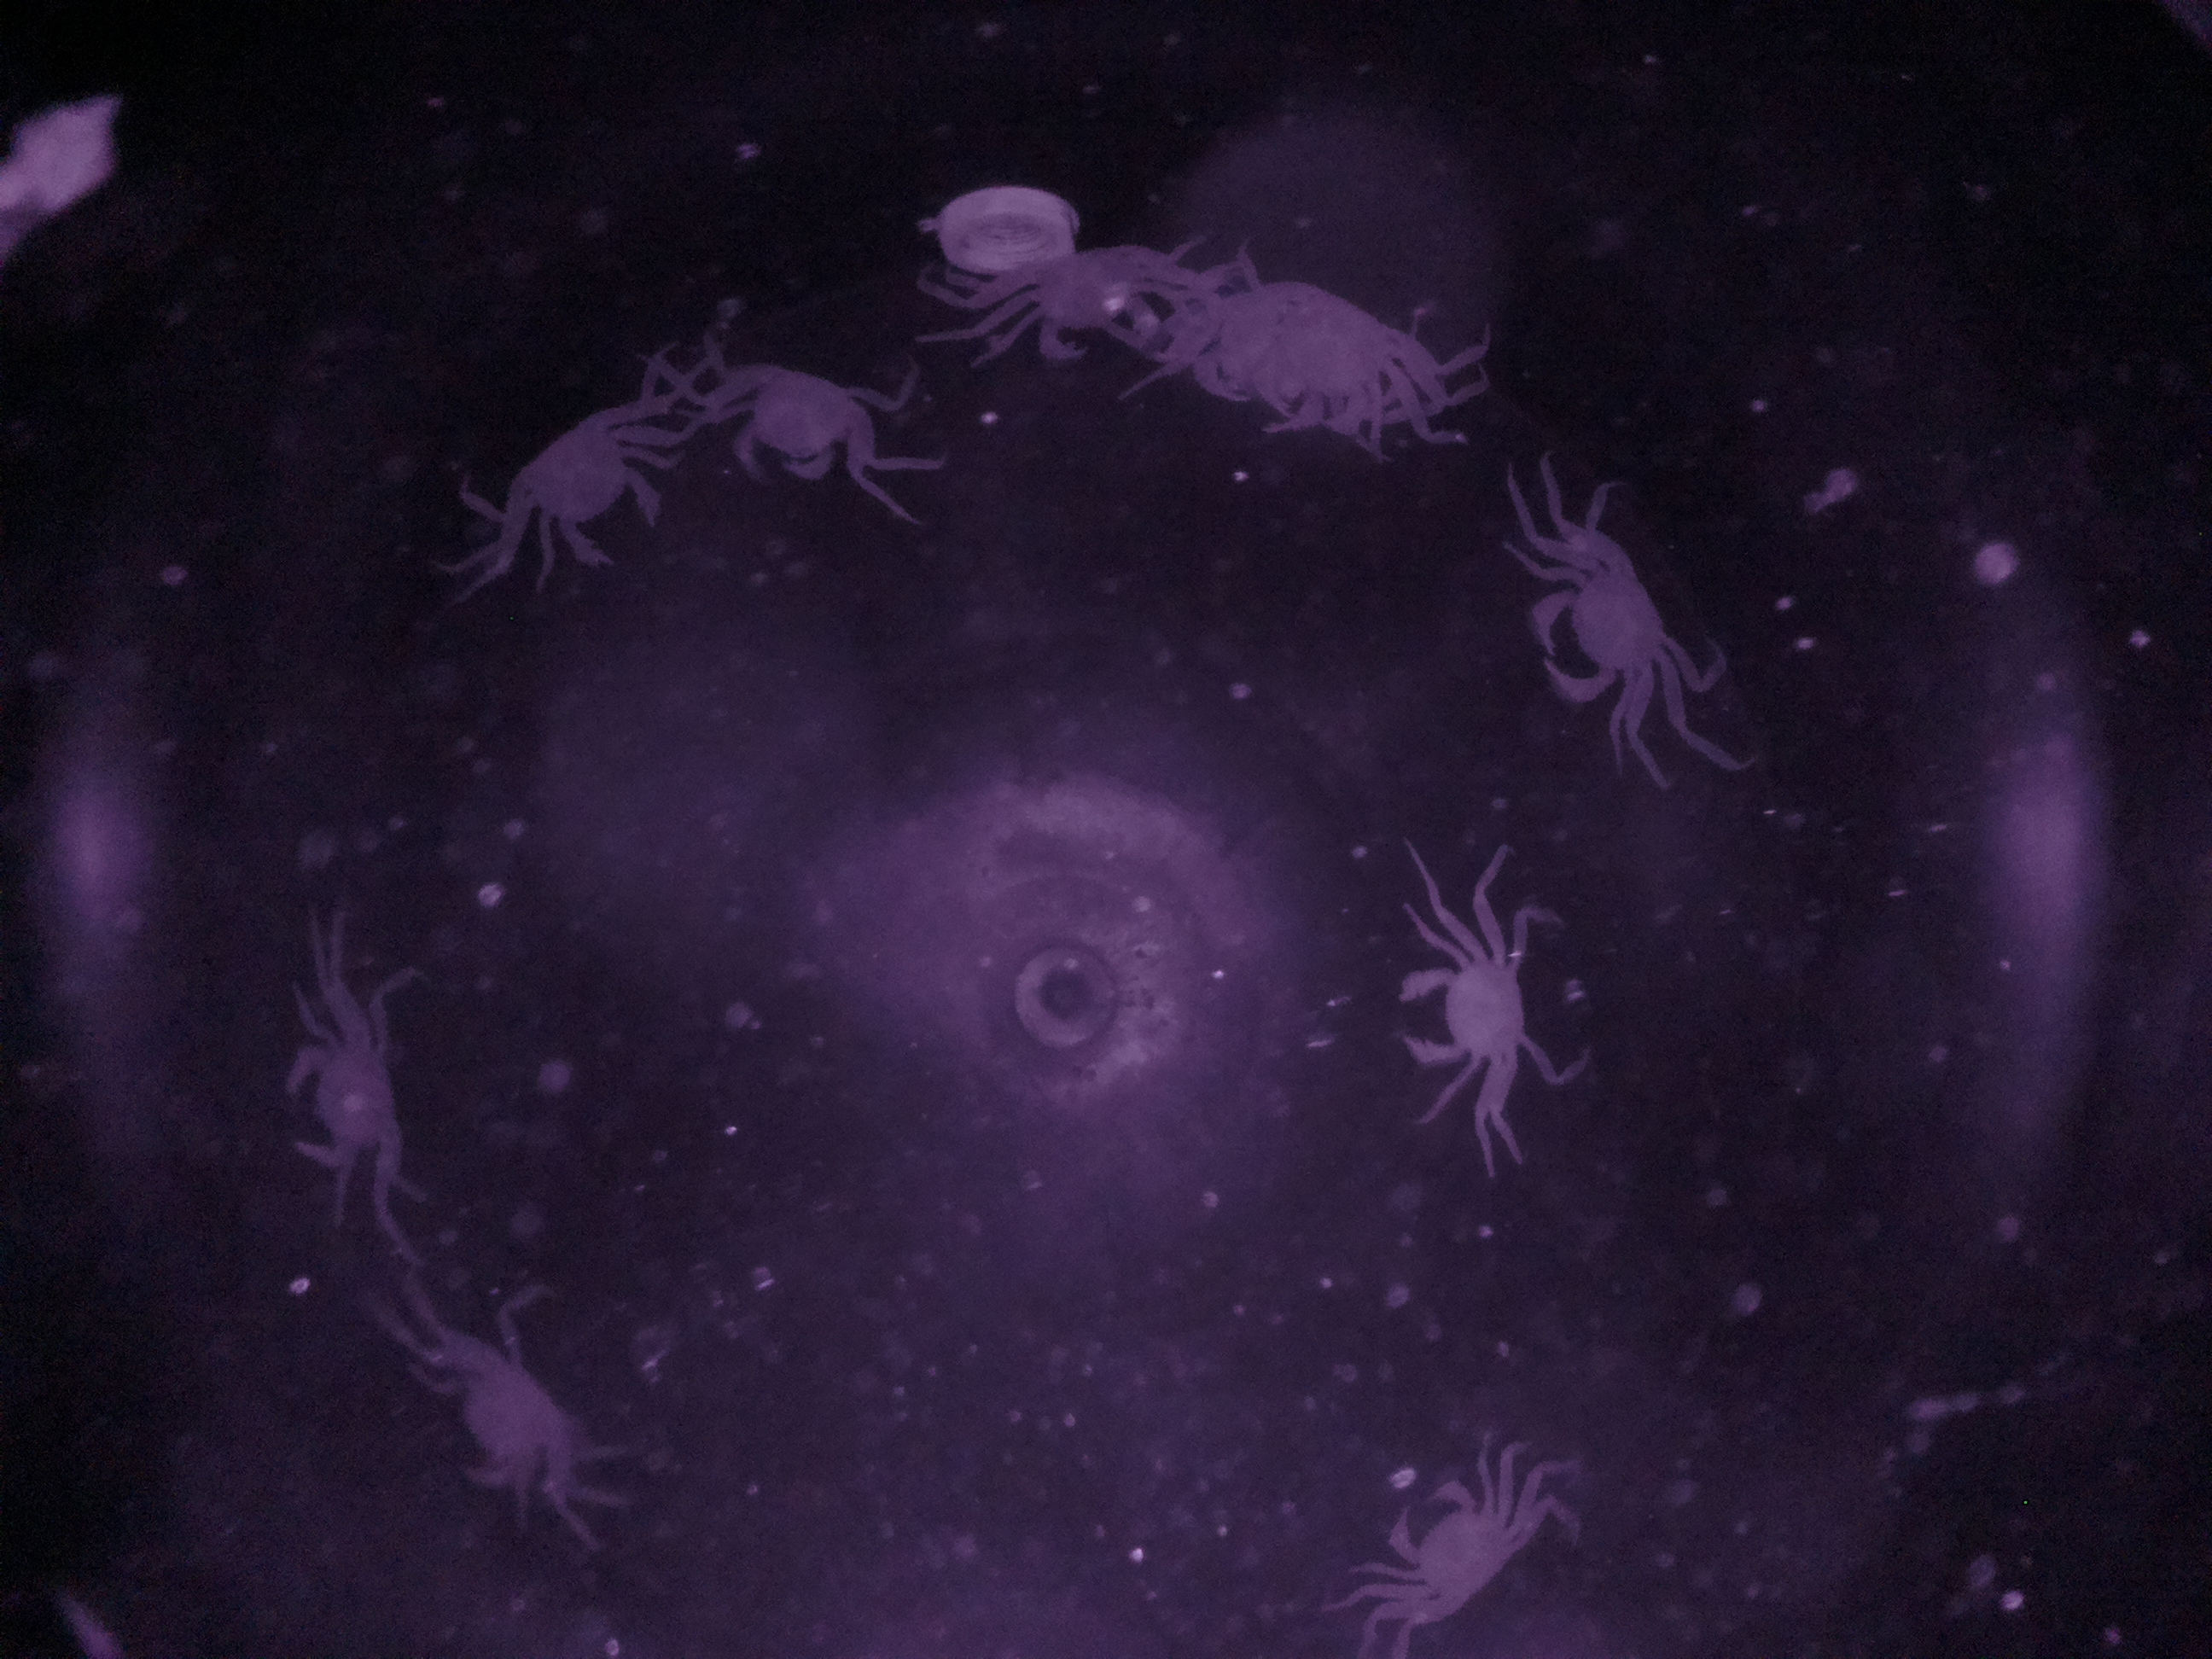Crab: (493, 371, 691, 589), (1521, 519, 1703, 746), (685, 321, 895, 516), (258, 993, 430, 1201), (1379, 1452, 1547, 1643), (1390, 904, 1545, 1098)
